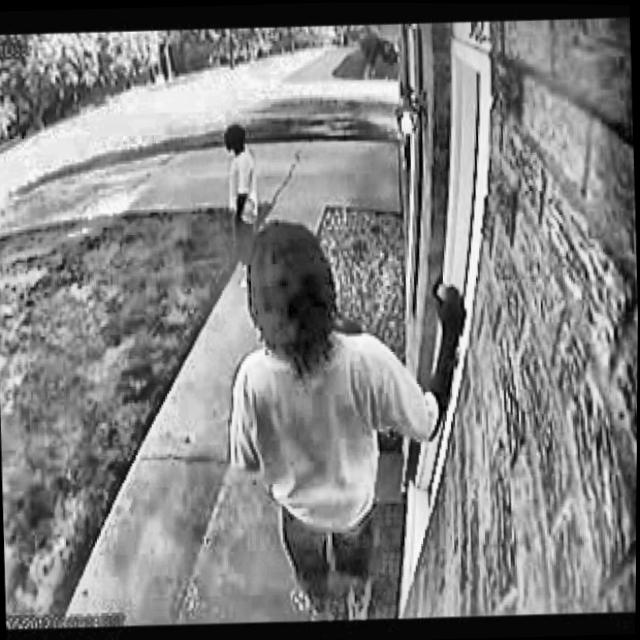burglary: (215, 207, 491, 623), (214, 116, 275, 291)
